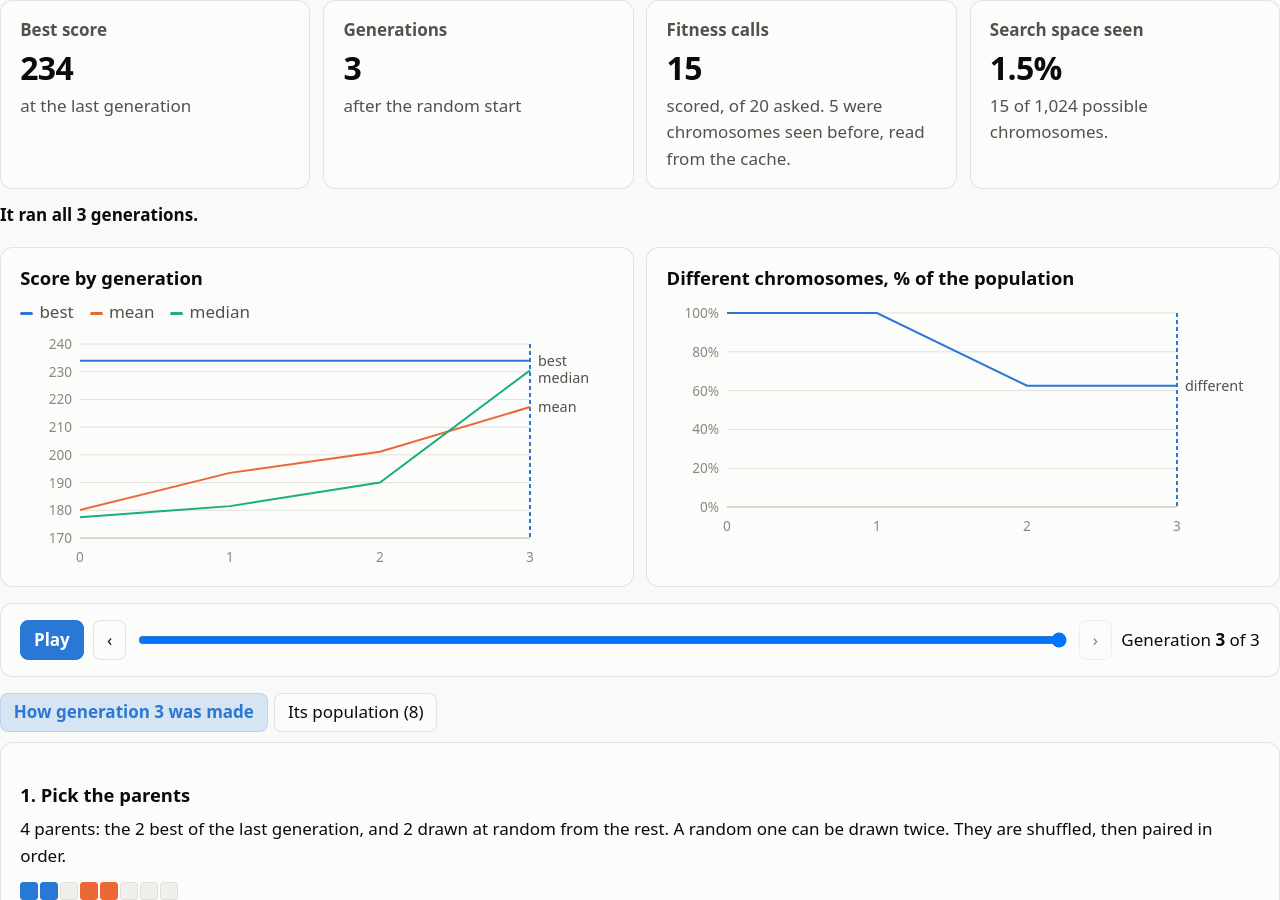
Test case: RunView › says generation 0 has no parents
Set the slider named "Generation" to "0". click: [146, 640]
box: [138,632,1067,648]
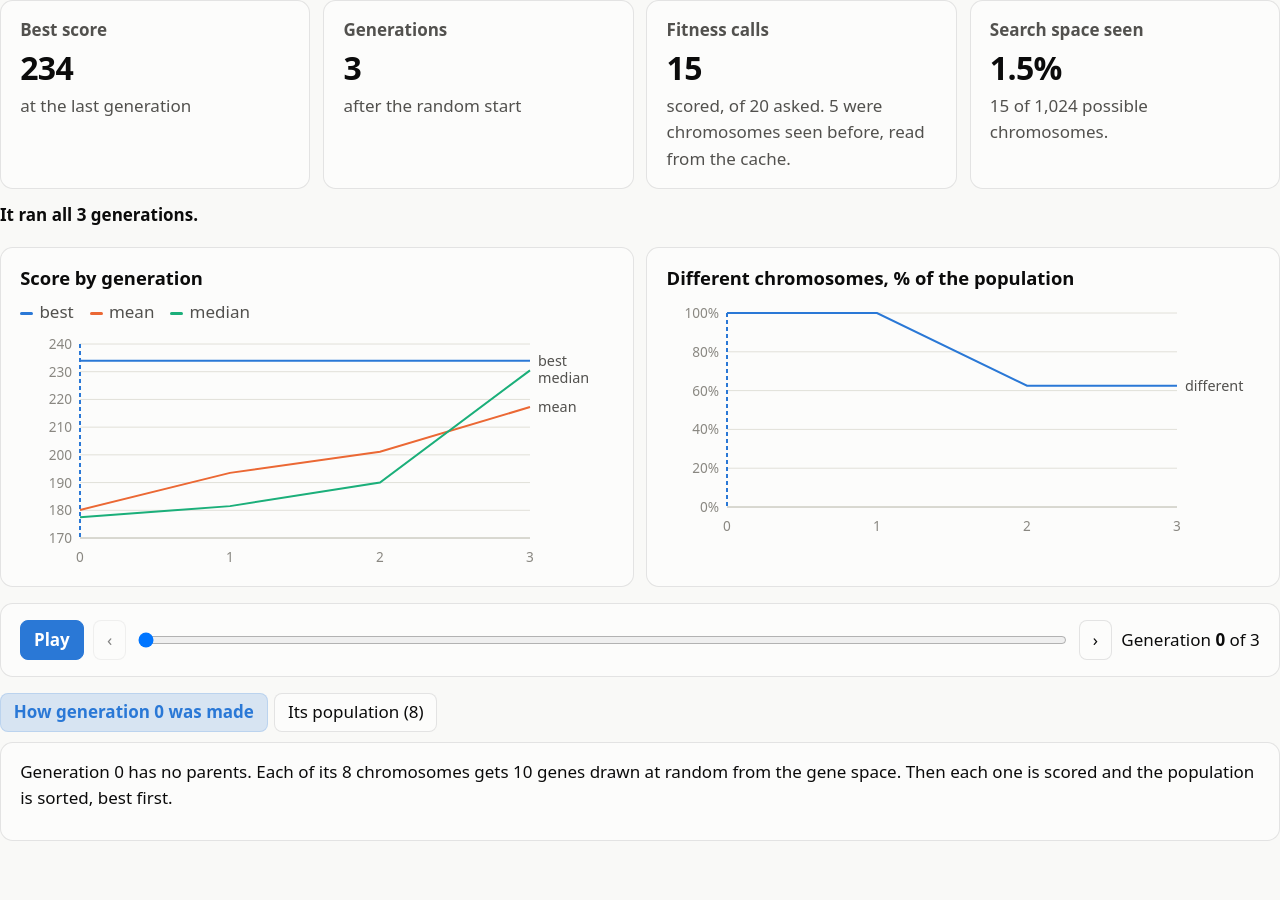
Expected: the text "Each of its 8 chromosomes gets 10 genes drawn at random from the gene space." is shown, [20,760,1254,809]
